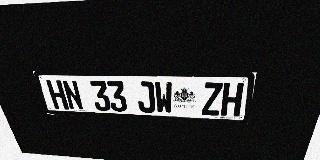3: (106, 81, 128, 112), (90, 81, 111, 111)
H: (221, 83, 244, 116), (46, 80, 69, 110)
J: (136, 81, 156, 113)
N: (61, 80, 84, 110)
W: (154, 82, 173, 114)
Z: (202, 82, 223, 116)
